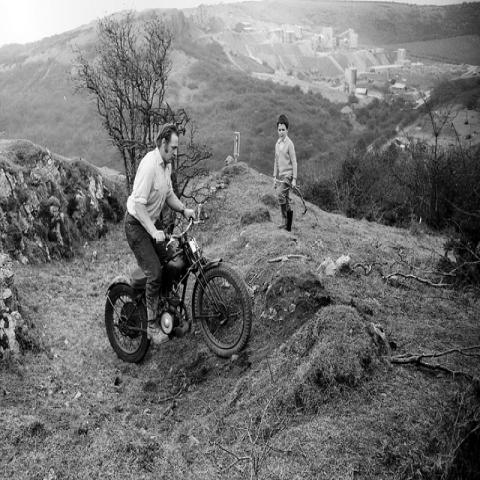motorcycle: (104, 217, 251, 365)
